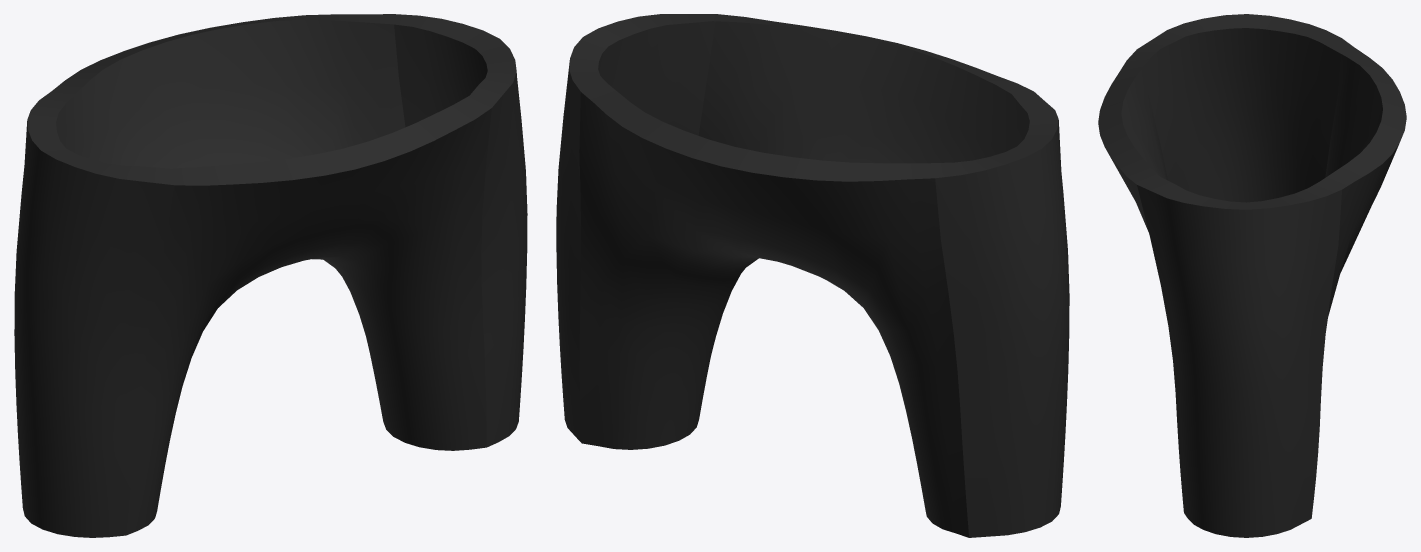
The model's file is 7特工裤.fbx.
The picture shows the model from 3 angles, left to right: view 1: azimuth 30°, elevation 25°; view 2: azimuth 150°, elevation 25°; view 3: azimuth 270°, elevation 25°; orthographic projection. The views are drawn at different scales.
Parts seen in each view (by area): view 1: 7特工裤; view 2: 7特工裤; view 3: 7特工裤.
Part boxes in pixels (<box>): 7特工裤: <box>14,14,527,537</box>; 7特工裤: <box>556,14,1069,537</box>; 7特工裤: <box>1098,14,1406,537</box>.
Bounding box in the file's own units: 0.628 × 0.4548 × 0.3878.
